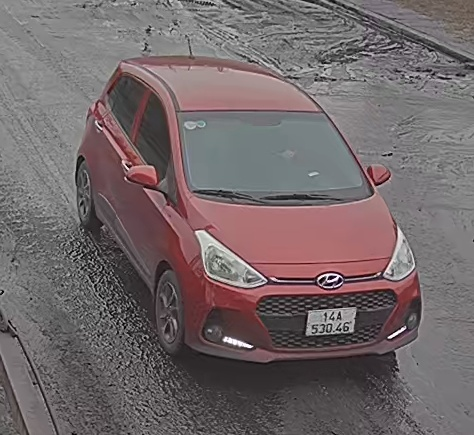vehicle plate: (302, 305, 358, 341)
